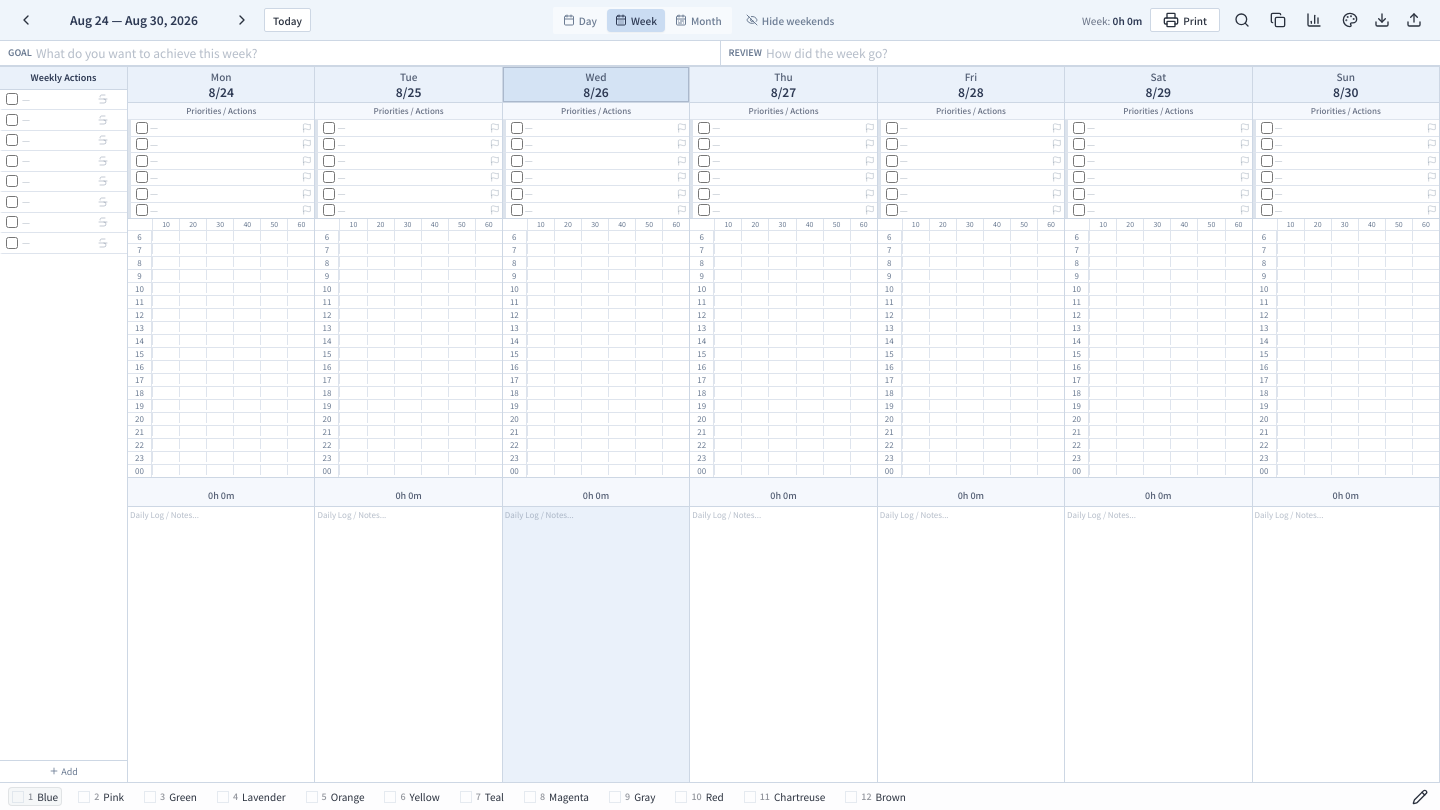
Scenario: the template dialog › says so when there is no painted week behind this one
Click the button named "copy a week's shape": click(1278, 20) [1264,6,1292,34]
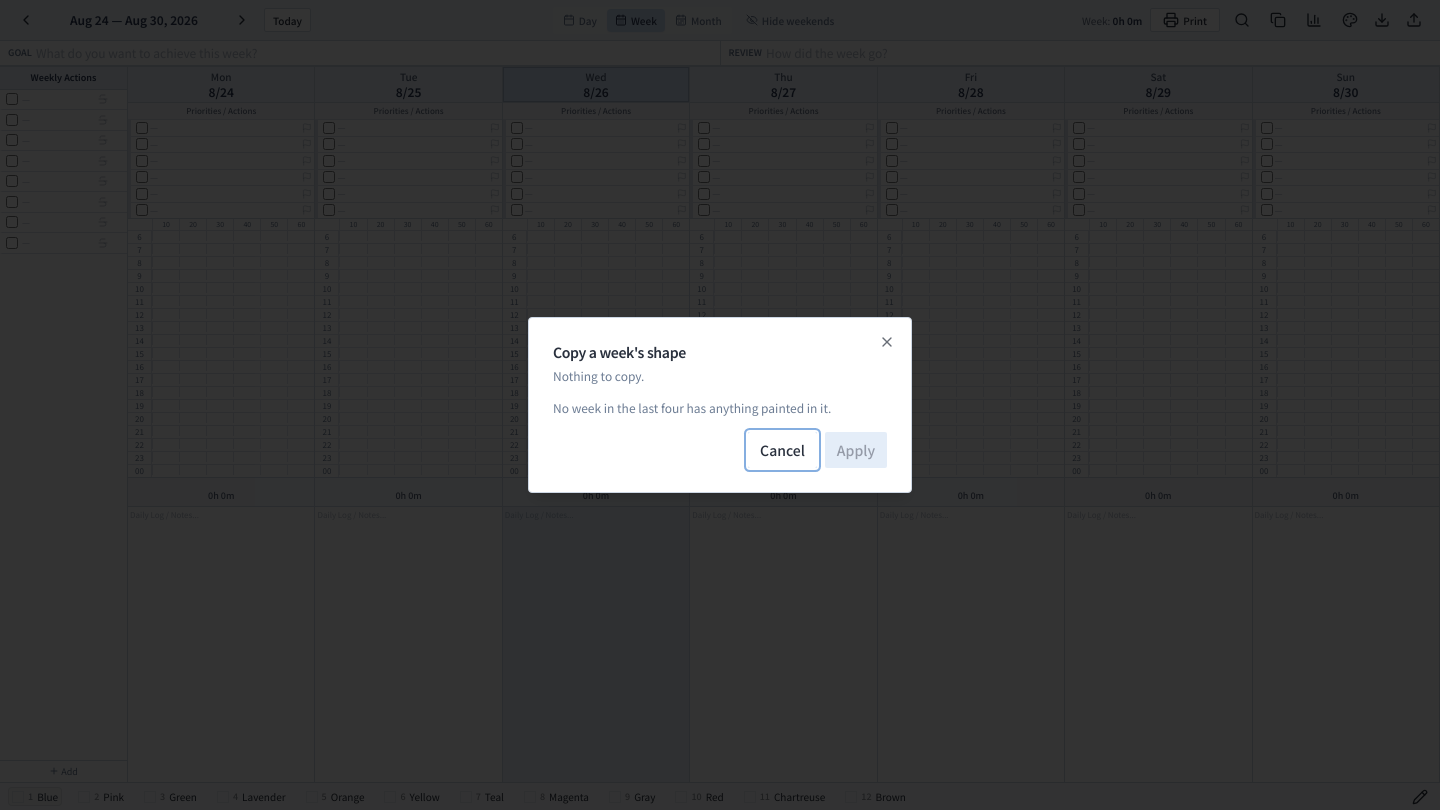
Check: the text "No week in the last four has anything painted in it." is shown, box [553,399,831,416]
